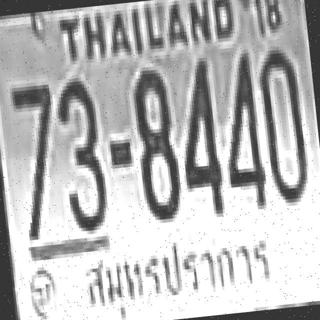N00: (254, 46, 310, 203)
N03: (52, 72, 108, 232)
N04: (215, 49, 266, 209), (172, 56, 222, 215)
N07: (9, 81, 64, 237), (9, 81, 60, 199)
N08: (128, 65, 182, 221)
P57: (78, 230, 280, 320)
